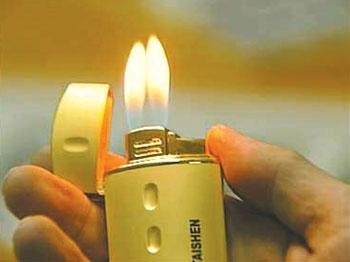fire: (122, 33, 171, 109)
